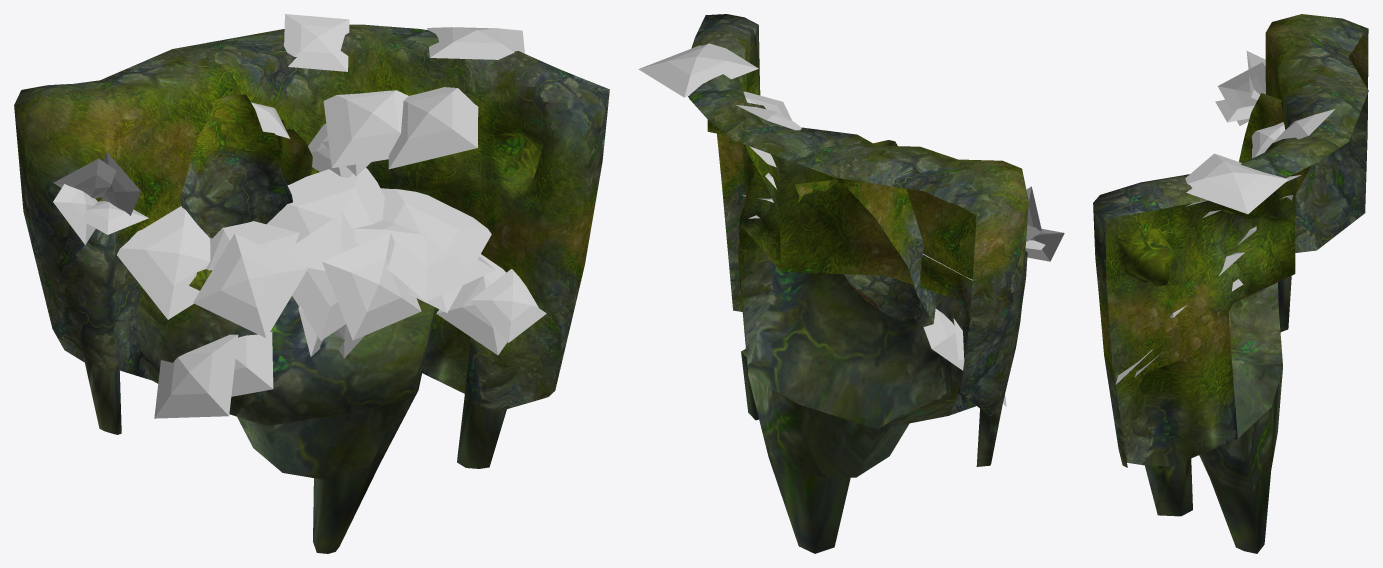
The model's file is 10104_Side02.FBX.
3 renders of one model, left to right at view 1: azimuth 30°, elevation 25°; view 2: azimuth 150°, elevation 25°; view 3: azimuth 270°, elevation 25°, orthographic. The views are drawn at different scales.
Parts seen in each view (by area): view 1: Plane026, Object017; view 2: Plane026, Object017; view 3: Plane026, Object017.
Part boxes in pixels (left/top/right/bottom): Plane026: left=14, top=24, right=609, bottom=553; Object017: left=53, top=14, right=546, bottom=418; Plane026: left=688, top=14, right=1028, bottom=553; Object017: left=638, top=43, right=1064, bottom=406; Plane026: left=1093, top=14, right=1368, bottom=553; Object017: left=1115, top=51, right=1335, bottom=384.
Size of the model in its own units: 820 by 821 by 465.
